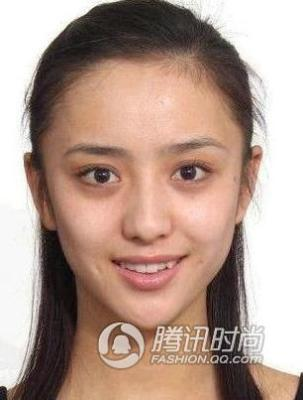unmask: (53, 73, 238, 326)
